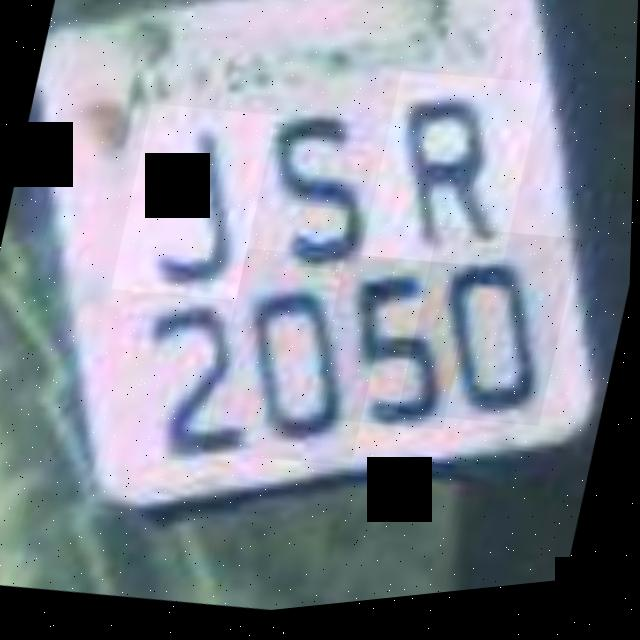0: (205, 242, 398, 486), (400, 224, 583, 450)
2: (85, 263, 305, 511)
5: (312, 250, 481, 451)
J: (112, 97, 278, 316)
R: (362, 68, 544, 291)
